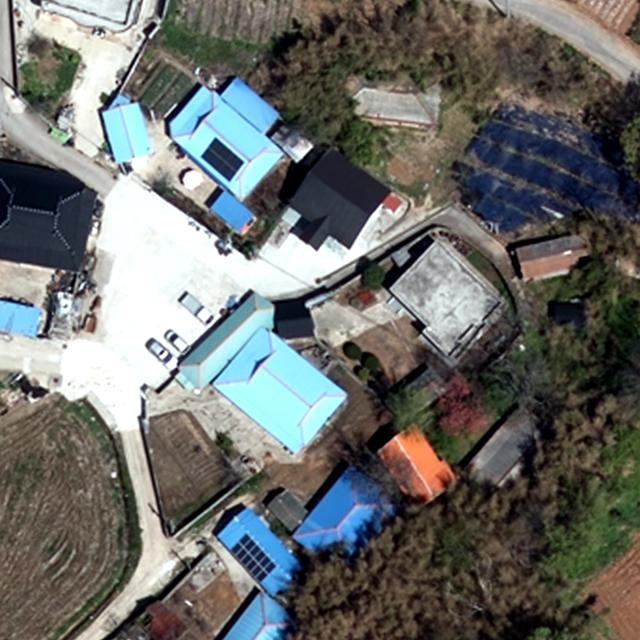solarpanel: (230, 533, 278, 586), (199, 134, 247, 186)
